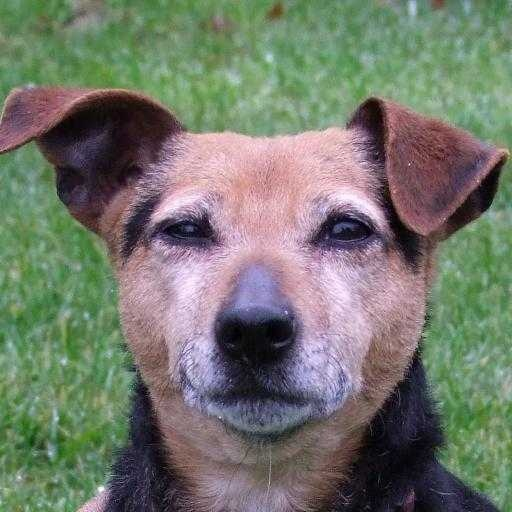Dog: (6, 80, 509, 440)
